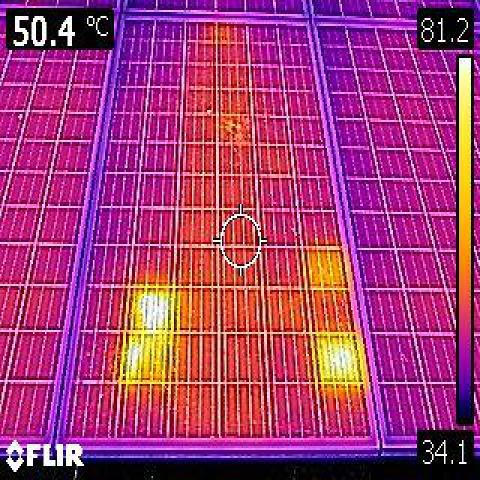fault: (317, 336, 359, 381), (129, 336, 169, 379), (132, 290, 170, 330), (310, 250, 340, 287)
